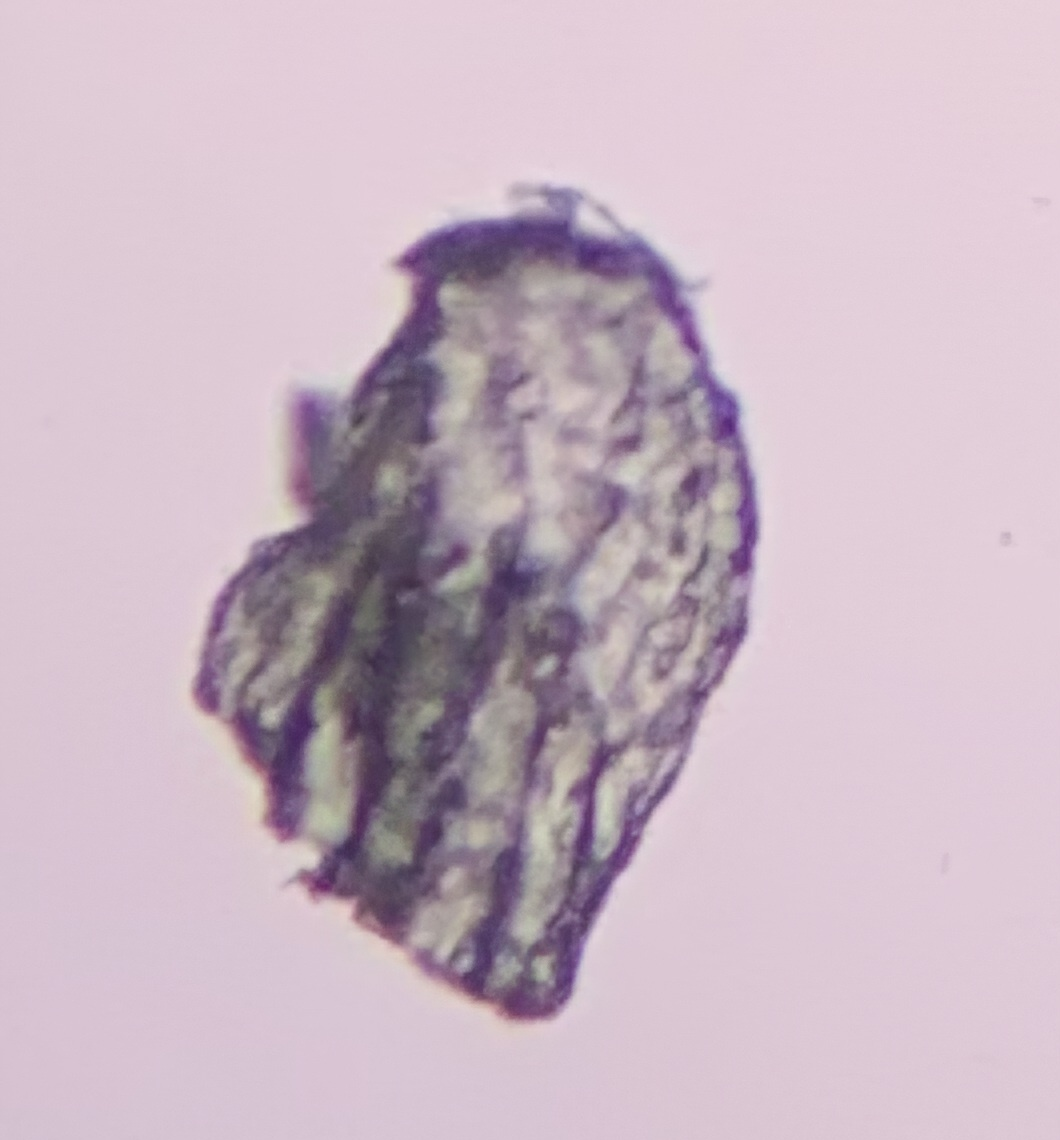microplastic: (185, 180, 763, 1028)
